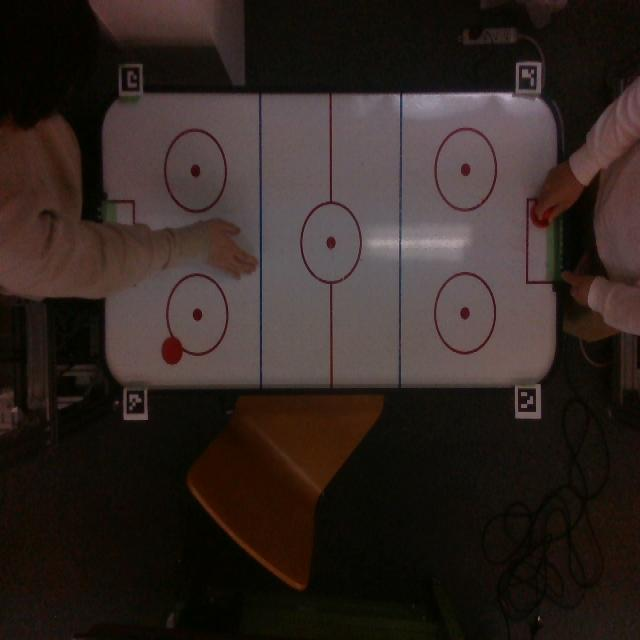puck: (162, 336, 183, 365)
